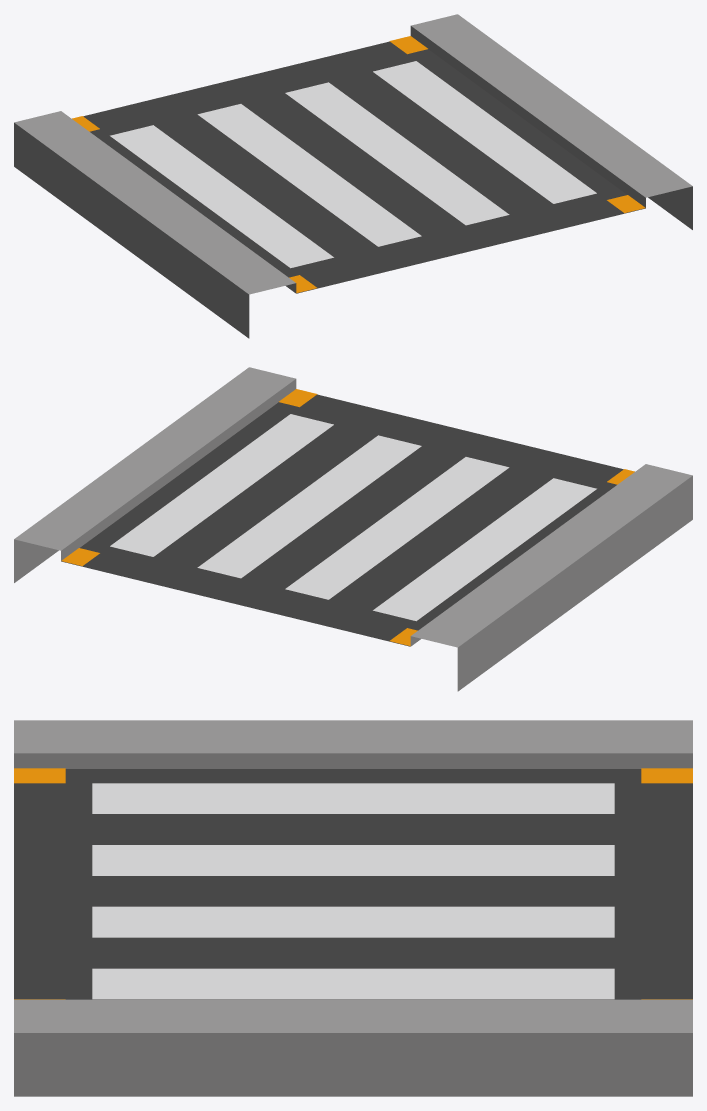
File: Road_A_13.glb
3 renders of one model, top to bottom at view 1: azimuth 30°, elevation 25°; view 2: azimuth 150°, elevation 25°; view 3: azimuth 270°, elevation 25°, orthographic. The views are drawn at different scales.
Parts seen in each view (by area): view 1: Road_A_13; view 2: Road_A_13; view 3: Road_A_13.
Boxes of the visible parts, <box> form: Road_A_13: <box>14,14,692,338</box>; Road_A_13: <box>14,367,692,691</box>; Road_A_13: <box>14,720,692,1096</box>.
Size of the model in its own units: 4.36 by 0.4148 by 4.
Materials: 1 (1 with a texture image).
